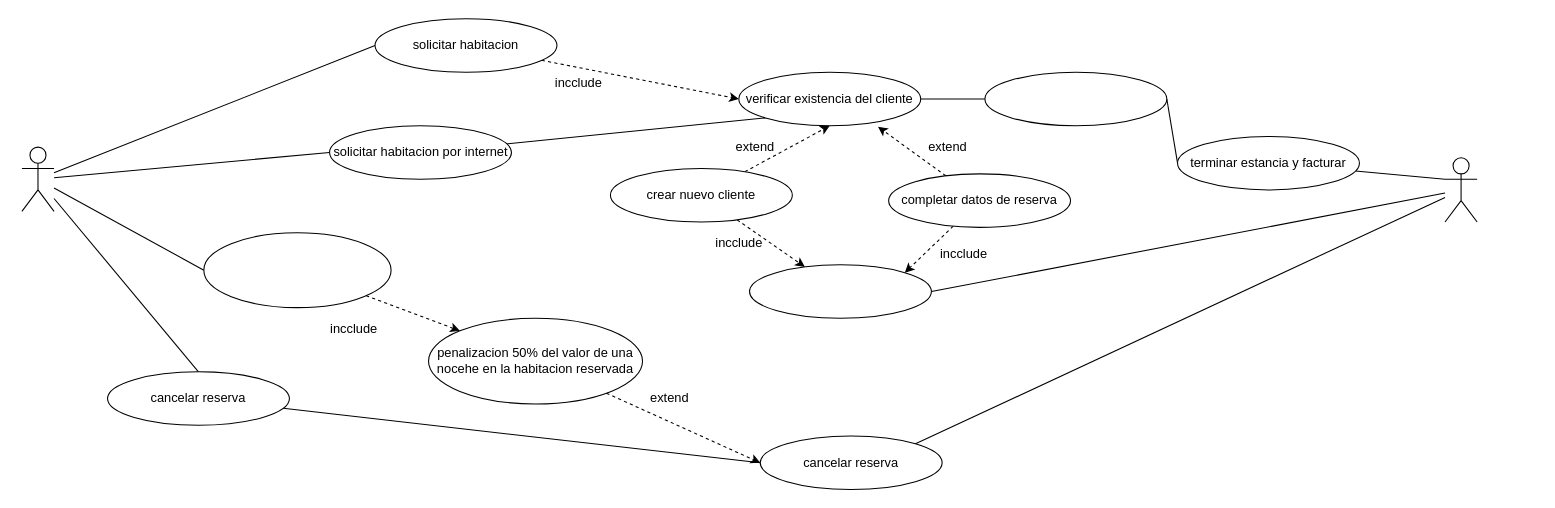
Some shapes in this 1555 by 508 pixel diagram are drawn without their labels. The centre of each missing label's shape, as x and y in pixels:
Administrador de reservas: point (1460, 189)
Cliente: point (37, 178)
comprobar reserva: point (1075, 98)
registrar reservas: point (839, 291)
solicitar cancelacion de reservasa antes de 24 horas: point (297, 270)
